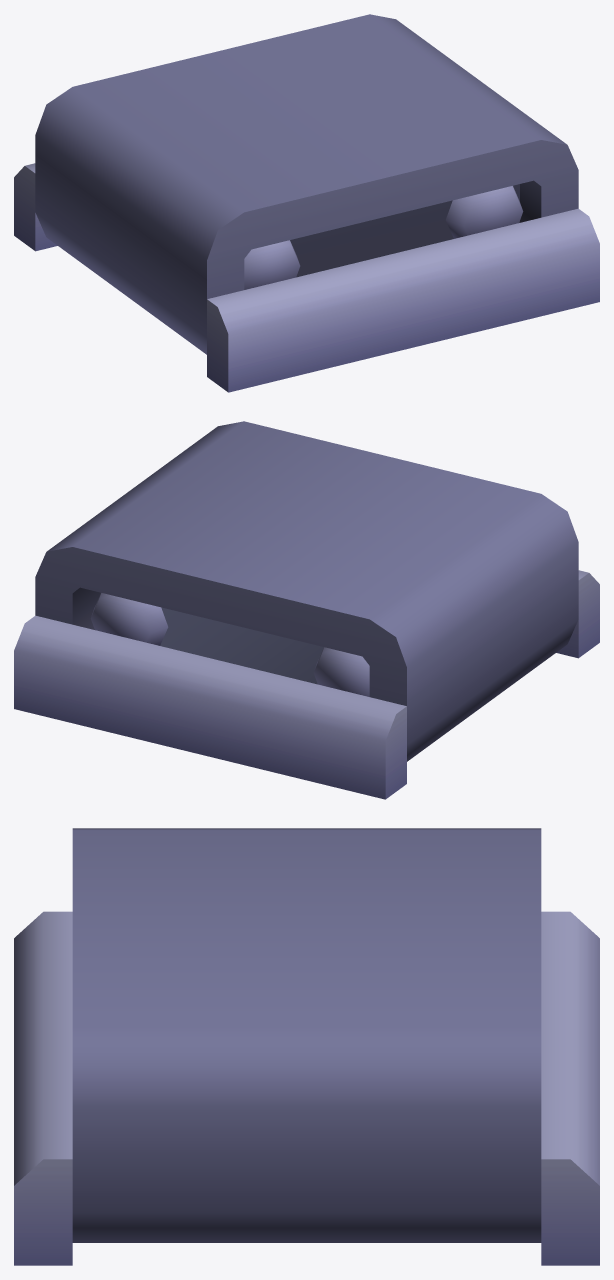
The model's file is conveyor-sides.glb.
3 views of the same model, one above another, from view 1: azimuth 30°, elevation 25°; view 2: azimuth 150°, elevation 25°; view 3: azimuth 270°, elevation 25° (orthographic). The views are drawn at different scales.
Parts seen in each view (by area): view 1: conveyor-sides; view 2: conveyor-sides; view 3: conveyor-sides.
Boxes of the visible parts, bbox=[...] form: conveyor-sides: bbox=[14, 14, 599, 392]; conveyor-sides: bbox=[14, 421, 599, 799]; conveyor-sides: bbox=[14, 828, 599, 1265].
Size of the model in its own units: 1 by 0.3999 by 1.
1 material, 1 textured.
